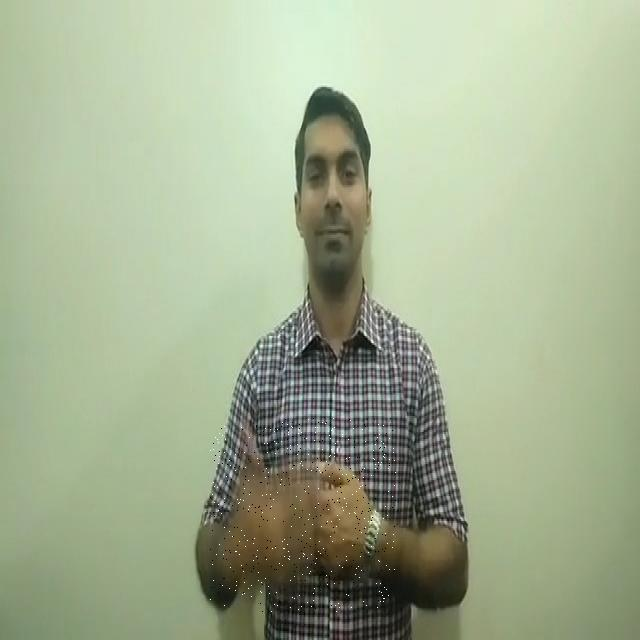bread: (210, 418, 396, 612)
